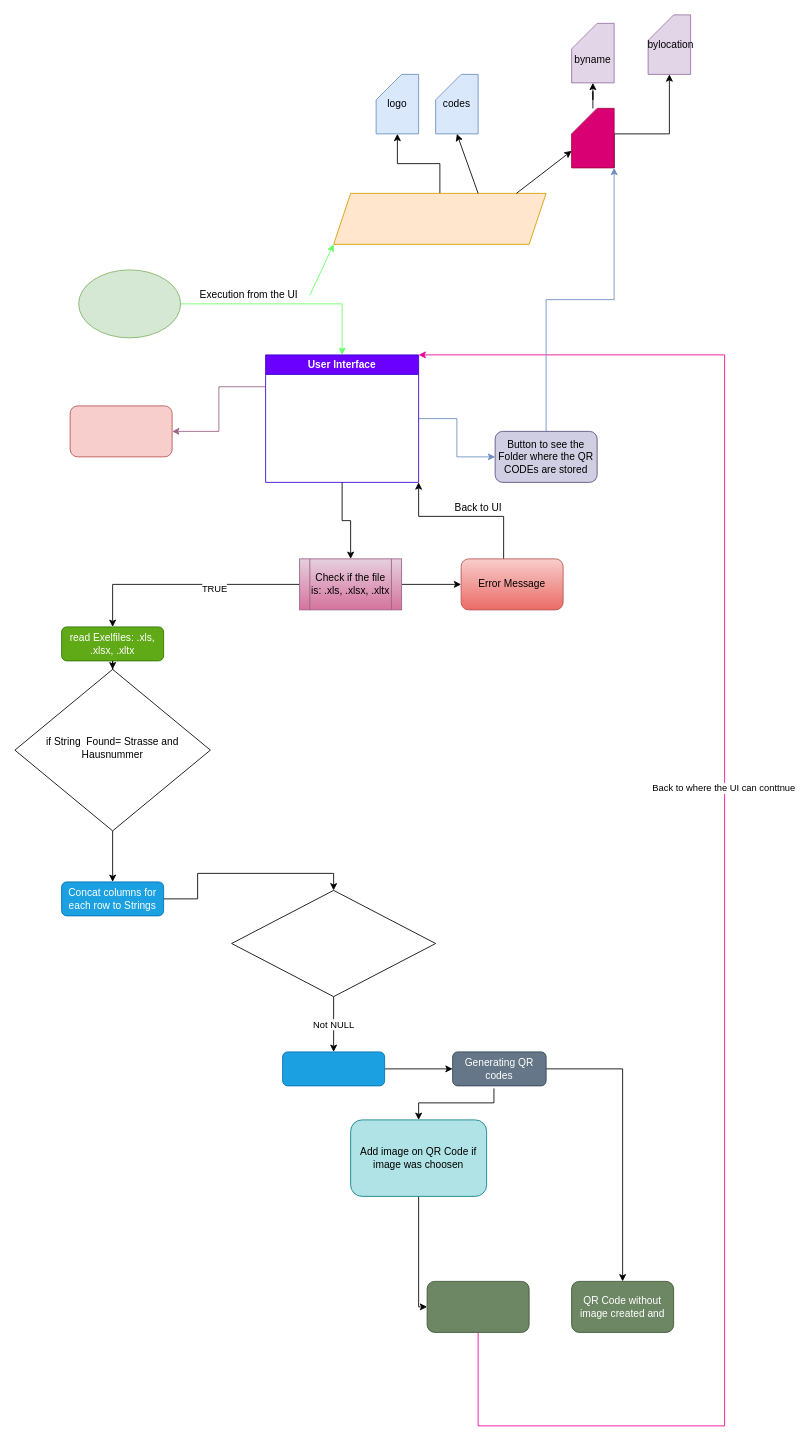
This 809x1448 diagram has some shape labels left out. The box of each missing label's shape, as (x1, y1, x2, y2) in pixels:
Aligned Strings into webmap link: (282, 1051, 385, 1086)
As long the colums are not emply: (231, 890, 436, 997)
Create folder for QR_Code if not excist parents childs: (333, 193, 546, 244)
Execution of the programm: (78, 269, 181, 338)
If close button is pressed. close application: (69, 405, 172, 457)
logocodes: (571, 108, 614, 168)
QR Code with image created and: (426, 1281, 529, 1332)
